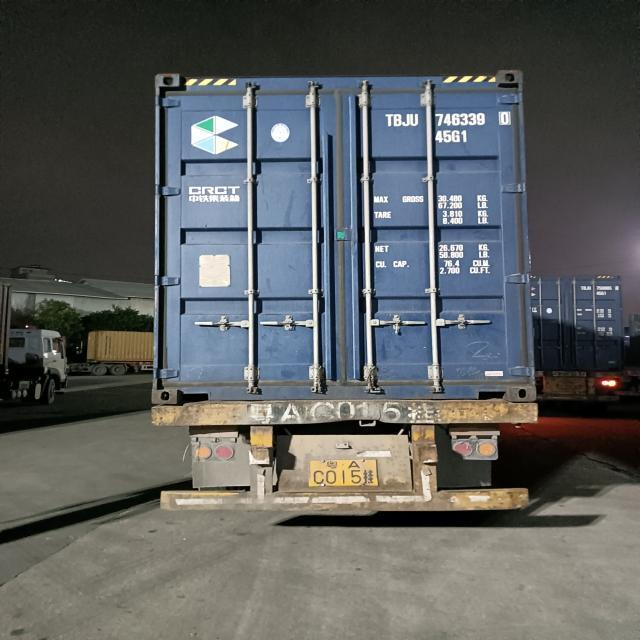ISO: (436, 128, 469, 146)
container_number: (384, 112, 516, 128)
